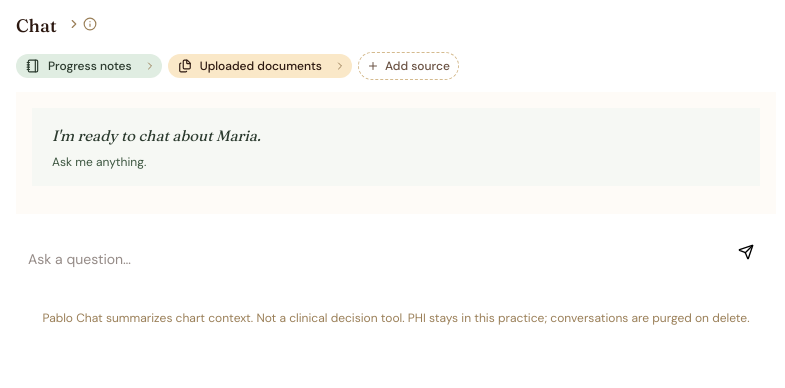
Test: ChatPanel — happy-path stream › creates a conversation lazily on first send and streams to a bubble
Type "Summarize Maria's last few sessions" into the text box named "Message". click: (374,260)
box: top-left (28, 248), bottom-right (720, 272)
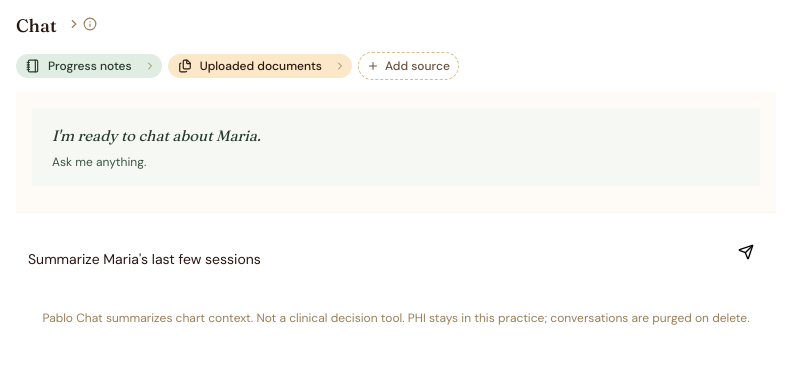
Click the button named "Send". click: (746,252)
box: top-left (728, 234), bottom-right (764, 270)
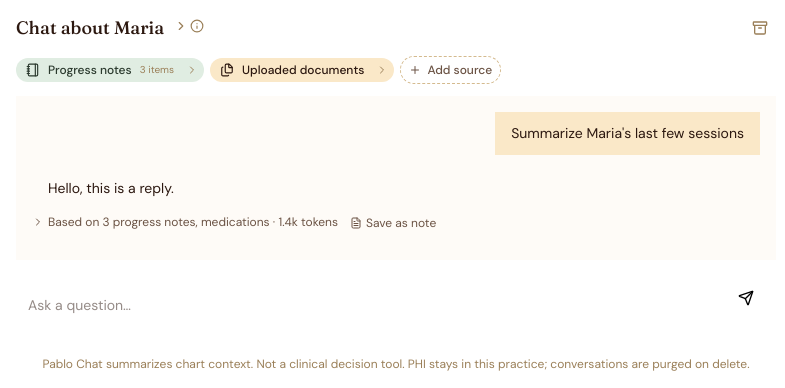
Result: the text "Summarize Maria's last few sessions" is shown at top-left (495, 112), bottom-right (760, 155)
Result: the text "Hello, this is a reply." is shown at top-left (48, 179), bottom-right (174, 197)
